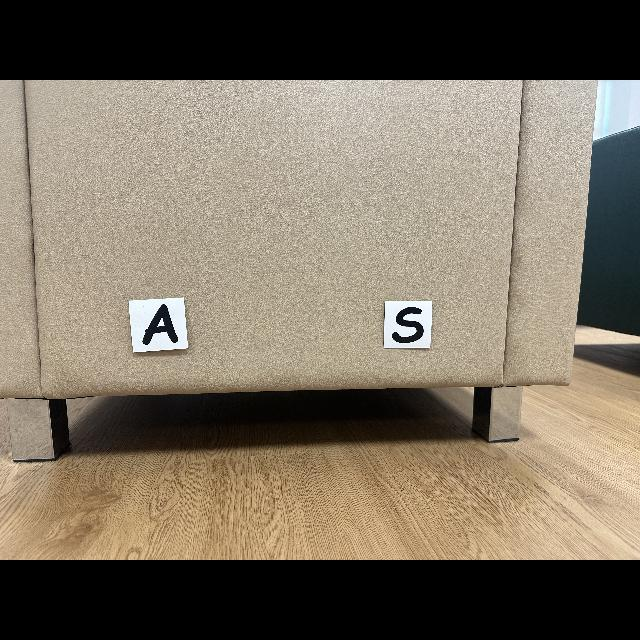A: (142, 304, 179, 345)
S: (384, 301, 432, 349), (392, 306, 424, 342)
